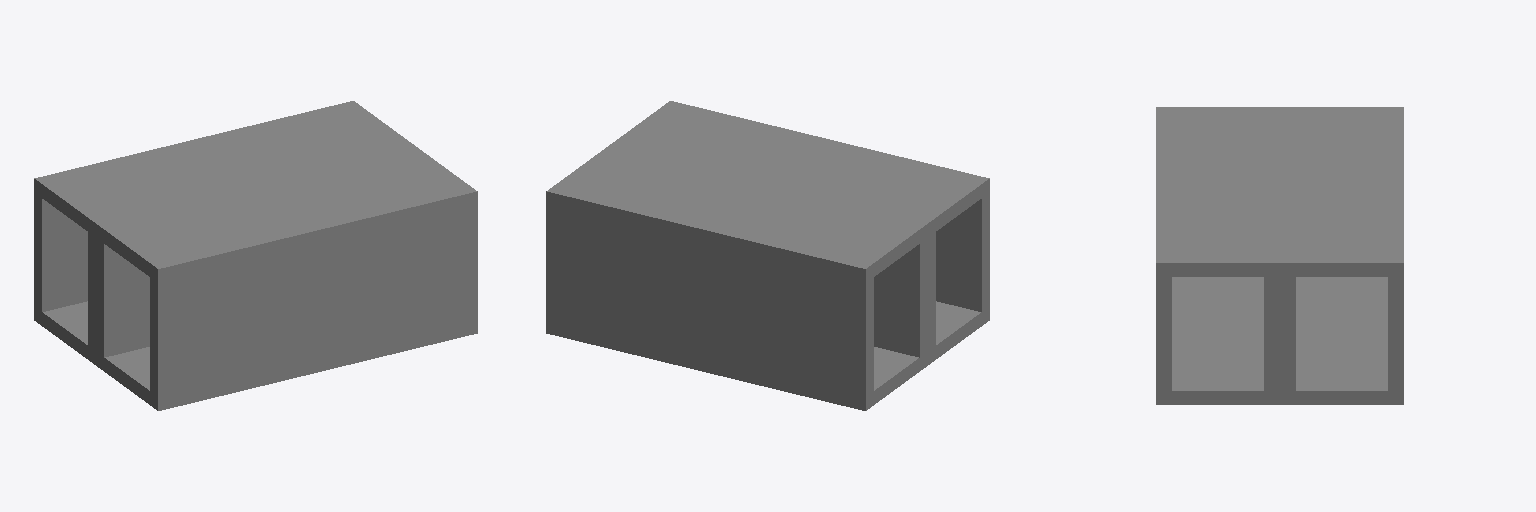
The model's file is brick.obj.
3 renders of one model, left to right at view 1: azimuth 30°, elevation 25°; view 2: azimuth 150°, elevation 25°; view 3: azimuth 270°, elevation 25°, orthographic.
Parts seen in each view (by area): view 1: Box001; view 2: Box001; view 3: Box001.
Part boxes in pixels (bbox=[...]): Box001: bbox=[34, 101, 477, 410]; Box001: bbox=[546, 101, 989, 410]; Box001: bbox=[1156, 107, 1403, 404].
Size of the model in its own units: 27.16 by 11.56 by 18.28.